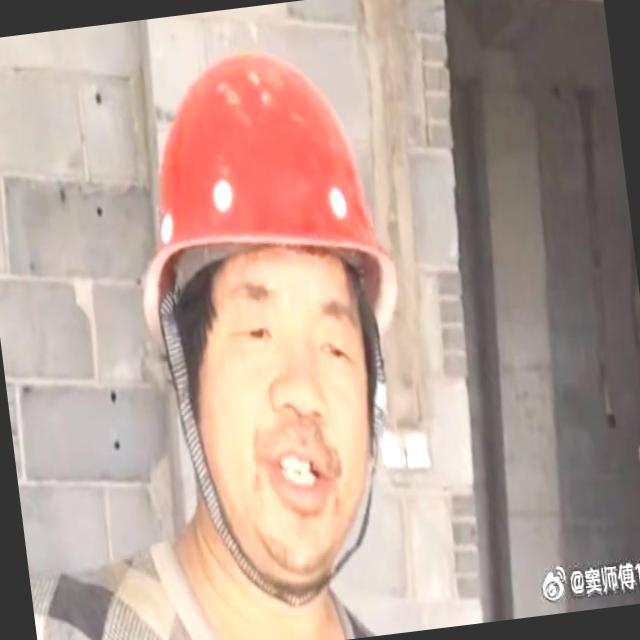helmet: (106, 28, 412, 306)
no-goggles: (183, 238, 387, 410)
no-vest: (23, 487, 392, 640)
